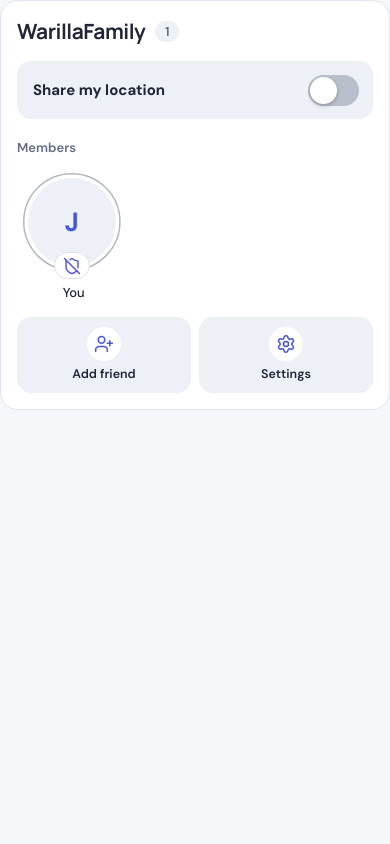
Household after the person changes it › does not show a household the person has left when the screen is opened again
This screenshot has width=390, height=844.
expect the heading "WarillaFamily" is shown: met, box top-left (17, 17), bottom-right (145, 45)
Click the button "Settings": x=286, y=355 top-left (199, 317), bottom-right (373, 393)
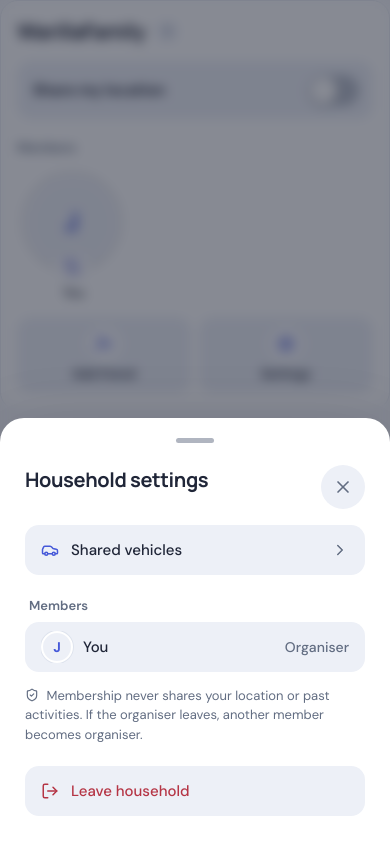
Click the button "Leave household": x=130, y=791 top-left (25, 766), bottom-right (365, 816)
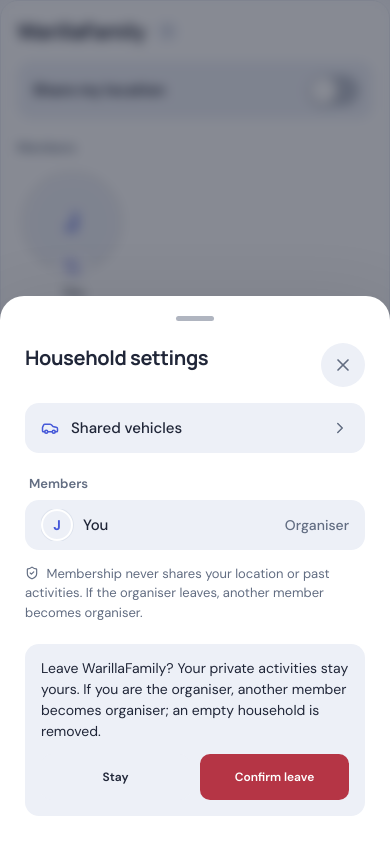
Click the button "Confirm leave": x=274, y=777 top-left (200, 754), bottom-right (349, 800)
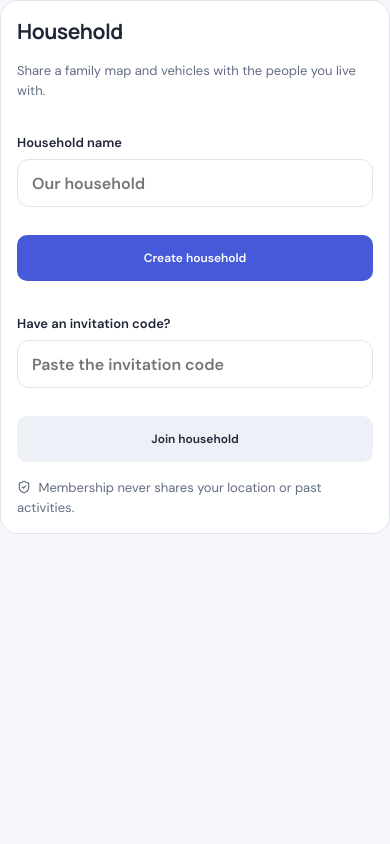
expect the heading "WarillaFamily" is gone: met
